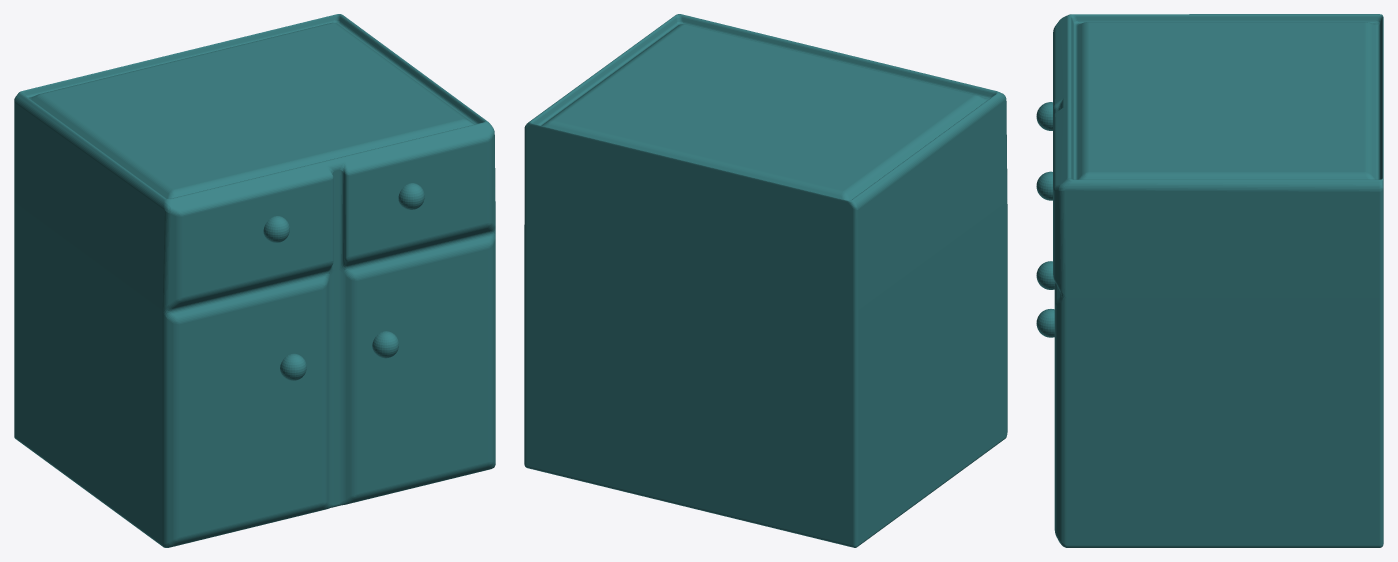
Rendered from LowerCupboardBl.fbx.
The picture shows the model from 3 angles, left to right: view 1: azimuth 30°, elevation 25°; view 2: azimuth 150°, elevation 25°; view 3: azimuth 270°, elevation 25°; orthographic projection. The views are drawn at different scales.
Visible parts, largest first — view 1: Cube.001; view 2: Cube.001; view 3: Cube.001.
Boxes of the visible parts, <box> form: Cube.001: <box>14,14,495,547</box>; Cube.001: <box>524,14,1007,547</box>; Cube.001: <box>1036,14,1383,547</box>.
Size of the model in its own units: 147 by 126 by 147.
